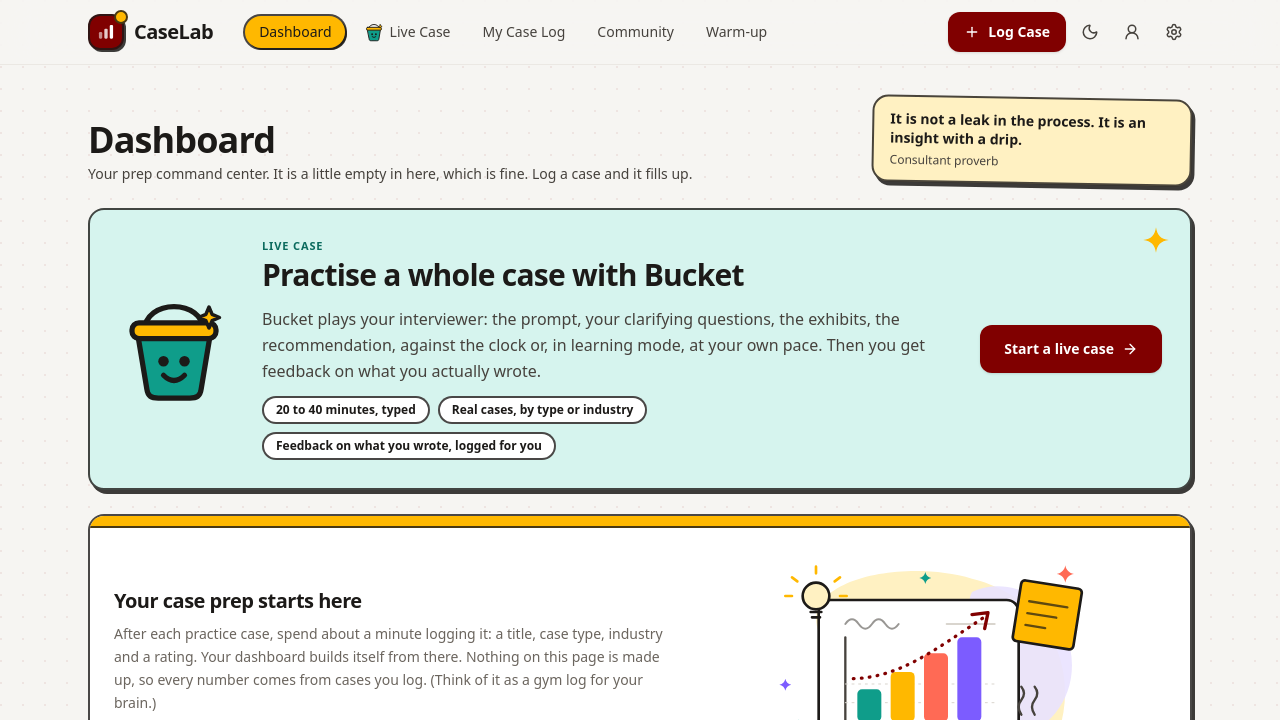
How I like to meet › keeps what was typed when the save fails, and says it was not saved
The width and height of the screenshot is (1280, 720).
Later steps or results of the test are not shown.
Expected: the heading "Dashboard" is shown, [88, 120, 275, 160]
Click the button named "Profile and privacy" at (1132, 32), box [1114, 14, 1150, 50]
(page scrolled)
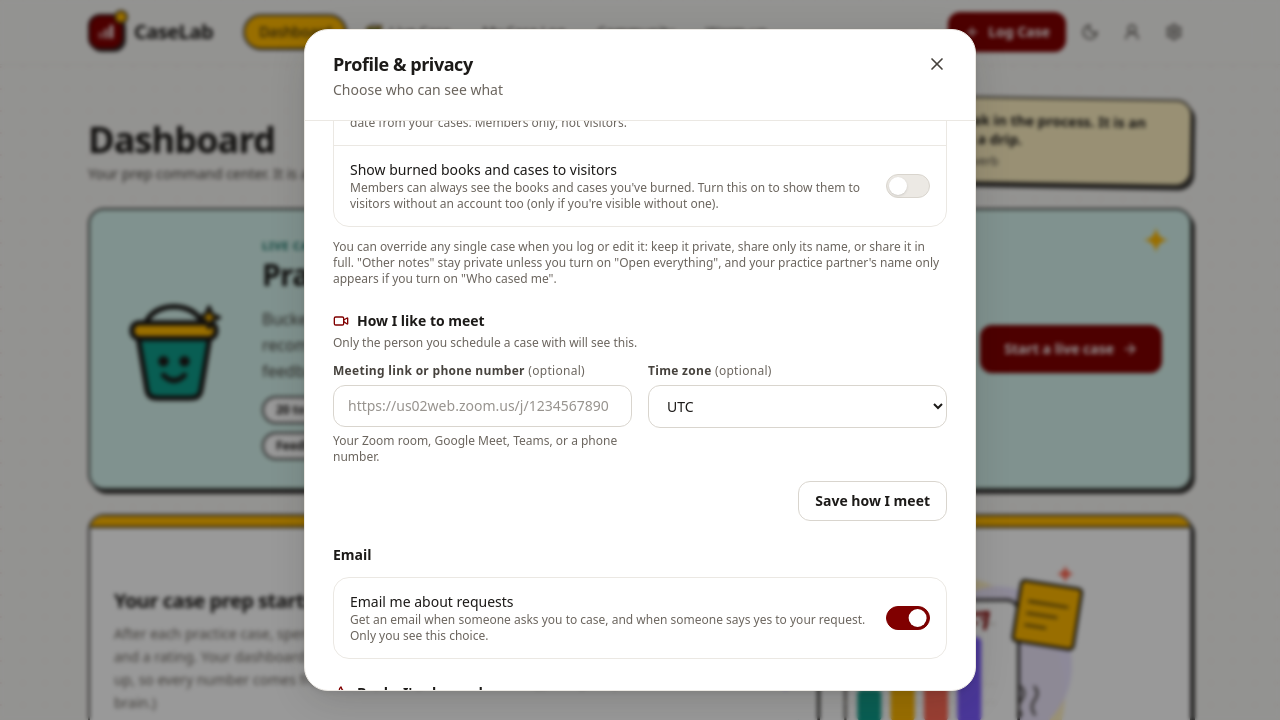
Expected: the element "How I like to meet" is shown, [333, 311, 947, 521]
Type "https://us02web.zoom.us/j/9876543210" into the field labelled "Meeting link or phone number (optional)" at (482, 406), box [333, 385, 632, 427]
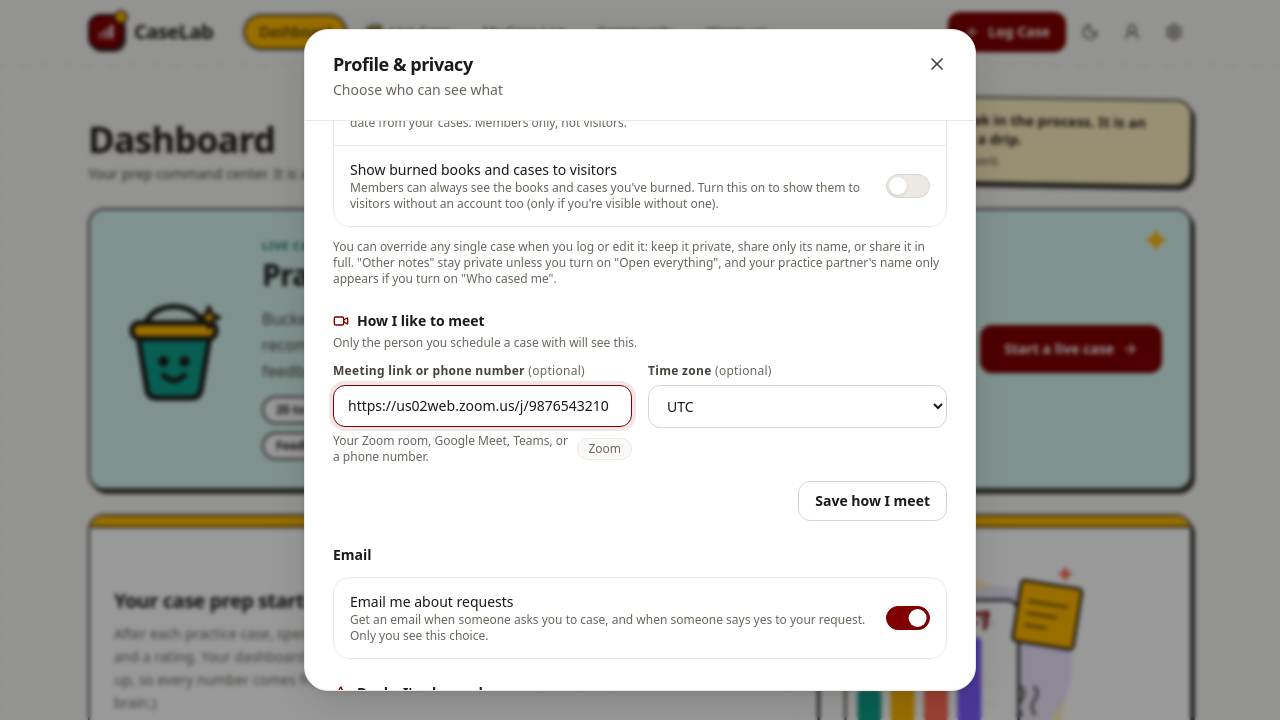
Click the button "Save how I meet" at (873, 501), box [798, 481, 947, 521]
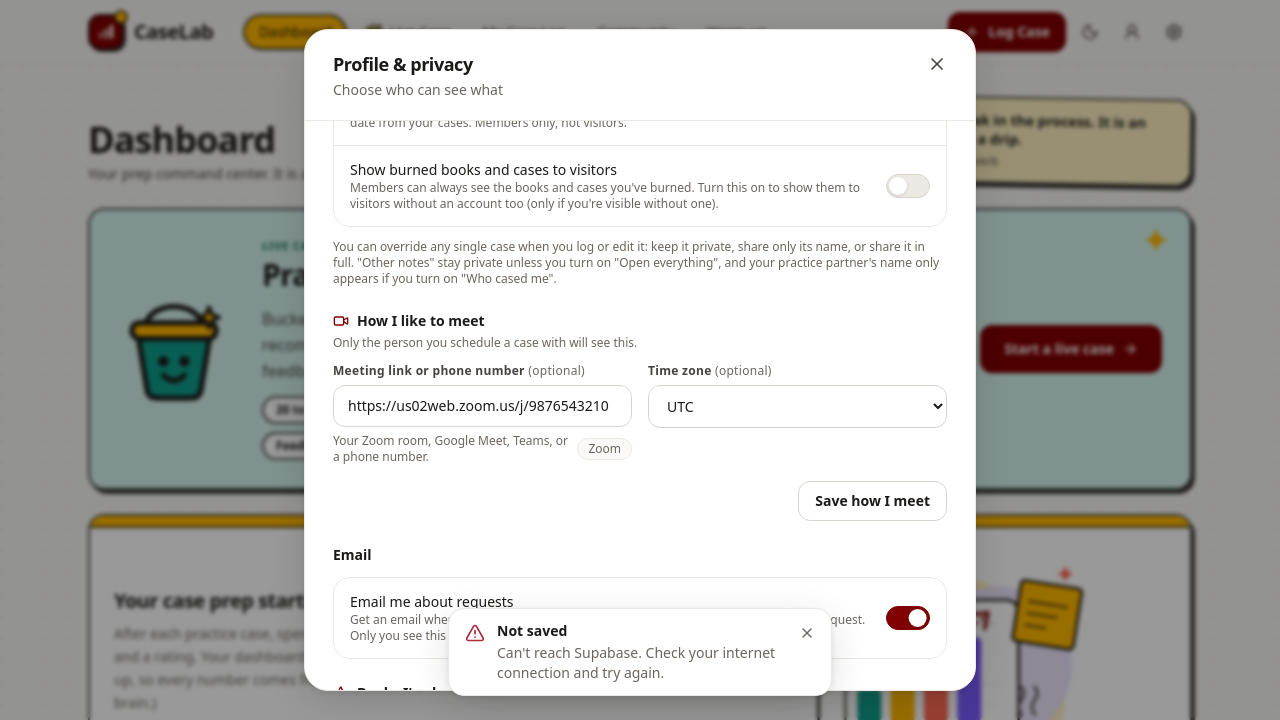
Expected: the text "Not saved" is shown, [497, 621, 567, 640]
